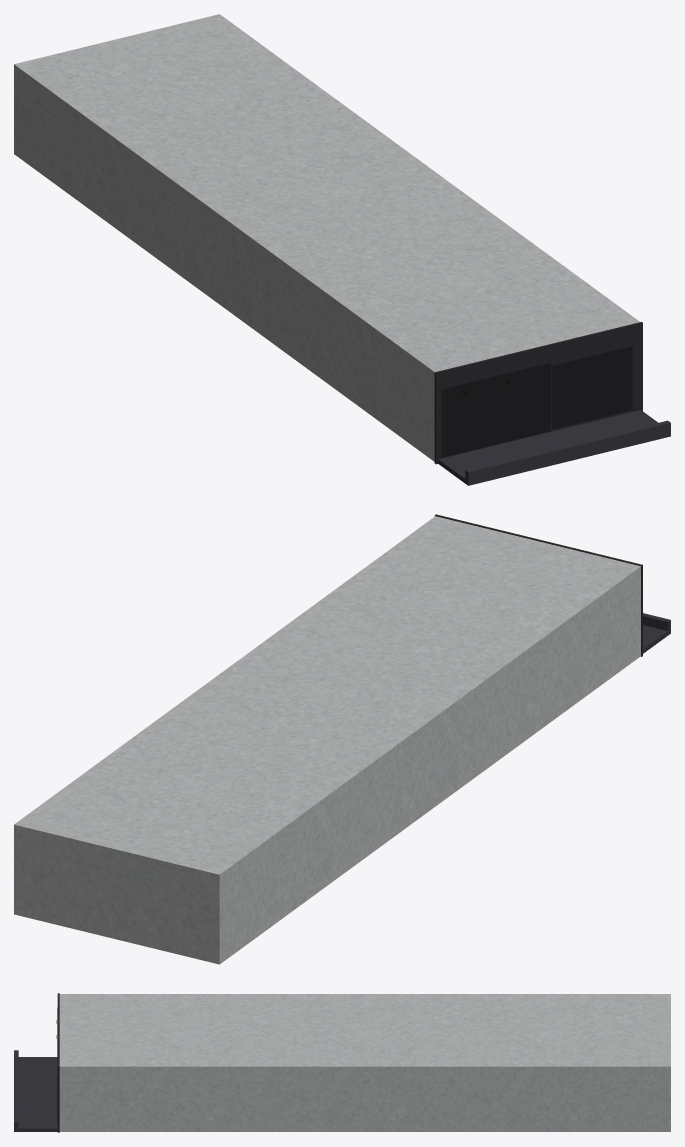
File: PWR-C2-1025WAC.far.glb
3 views of the same model, one above another, from view 1: azimuth 30°, elevation 25°; view 2: azimuth 150°, elevation 25°; view 3: azimuth 270°, elevation 25° (orthographic). The views are drawn at different scales.
Visible parts, largest first — view 1: PSU_far; view 2: PSU_far; view 3: PSU_far.
Boxes of the visible parts, box(x1,y1,x2,y2) form: PSU_far: box(14, 14, 670, 485); PSU_far: box(14, 514, 670, 964); PSU_far: box(14, 993, 670, 1132).
Bounding box in the file's own units: 0.0953 × 0.0401 × 0.3609.
Materials: 3 (2 with a texture image).
